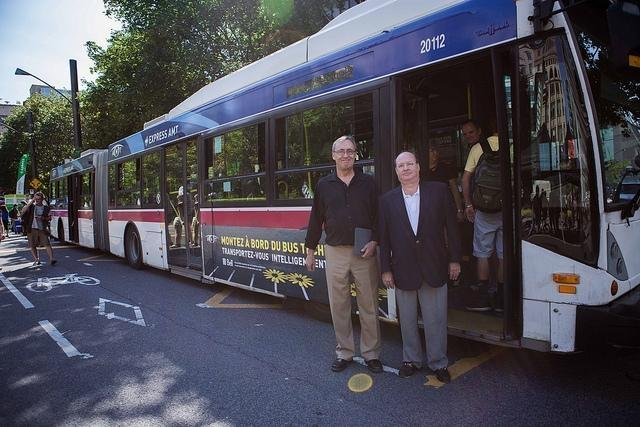bicycle: (46, 216, 51, 237)
bus: (47, 1, 640, 350)
